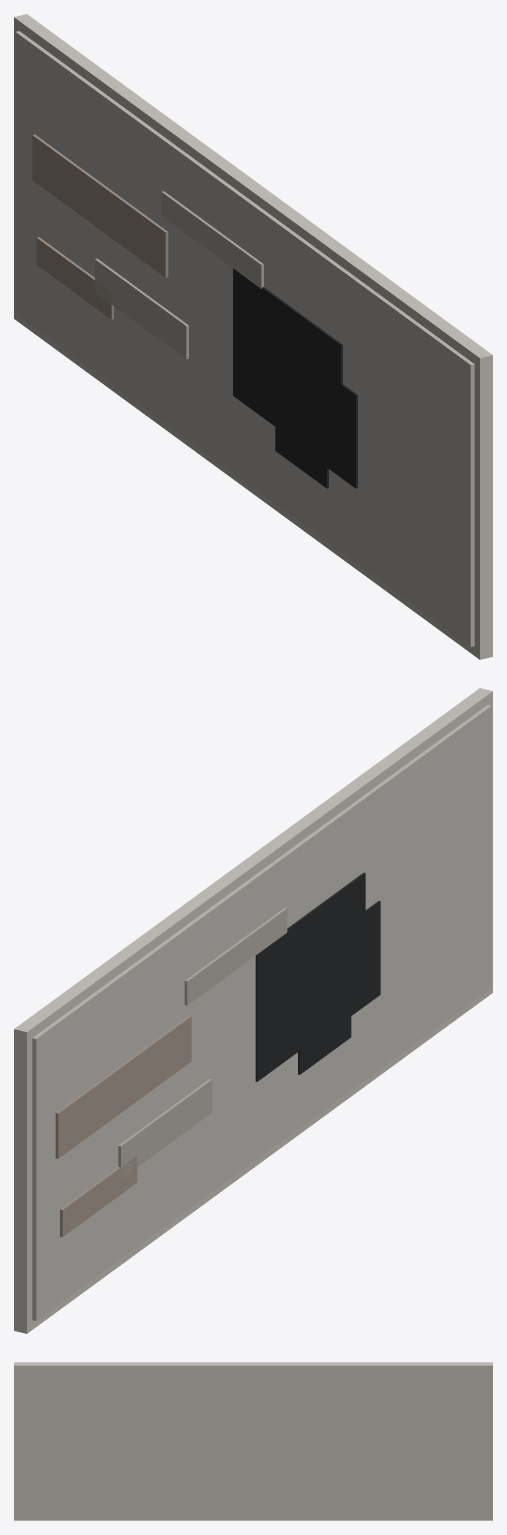
Rendered from art_e3.glb.
3 views of the same model, one above another, from view 1: azimuth 30°, elevation 25°; view 2: azimuth 150°, elevation 25°; view 3: azimuth 270°, elevation 25° (orthographic). The views are drawn at different scales.
Parts seen in each view (by area): view 1: root; view 2: root; view 3: root.
Part boxes in pixels (x1,y1,x2,y2): root: [14, 14, 492, 659]; root: [14, 688, 492, 1333]; root: [14, 1362, 492, 1520].
Bounding box in the file's own units: 0.0411 × 0.6096 × 1.71.
